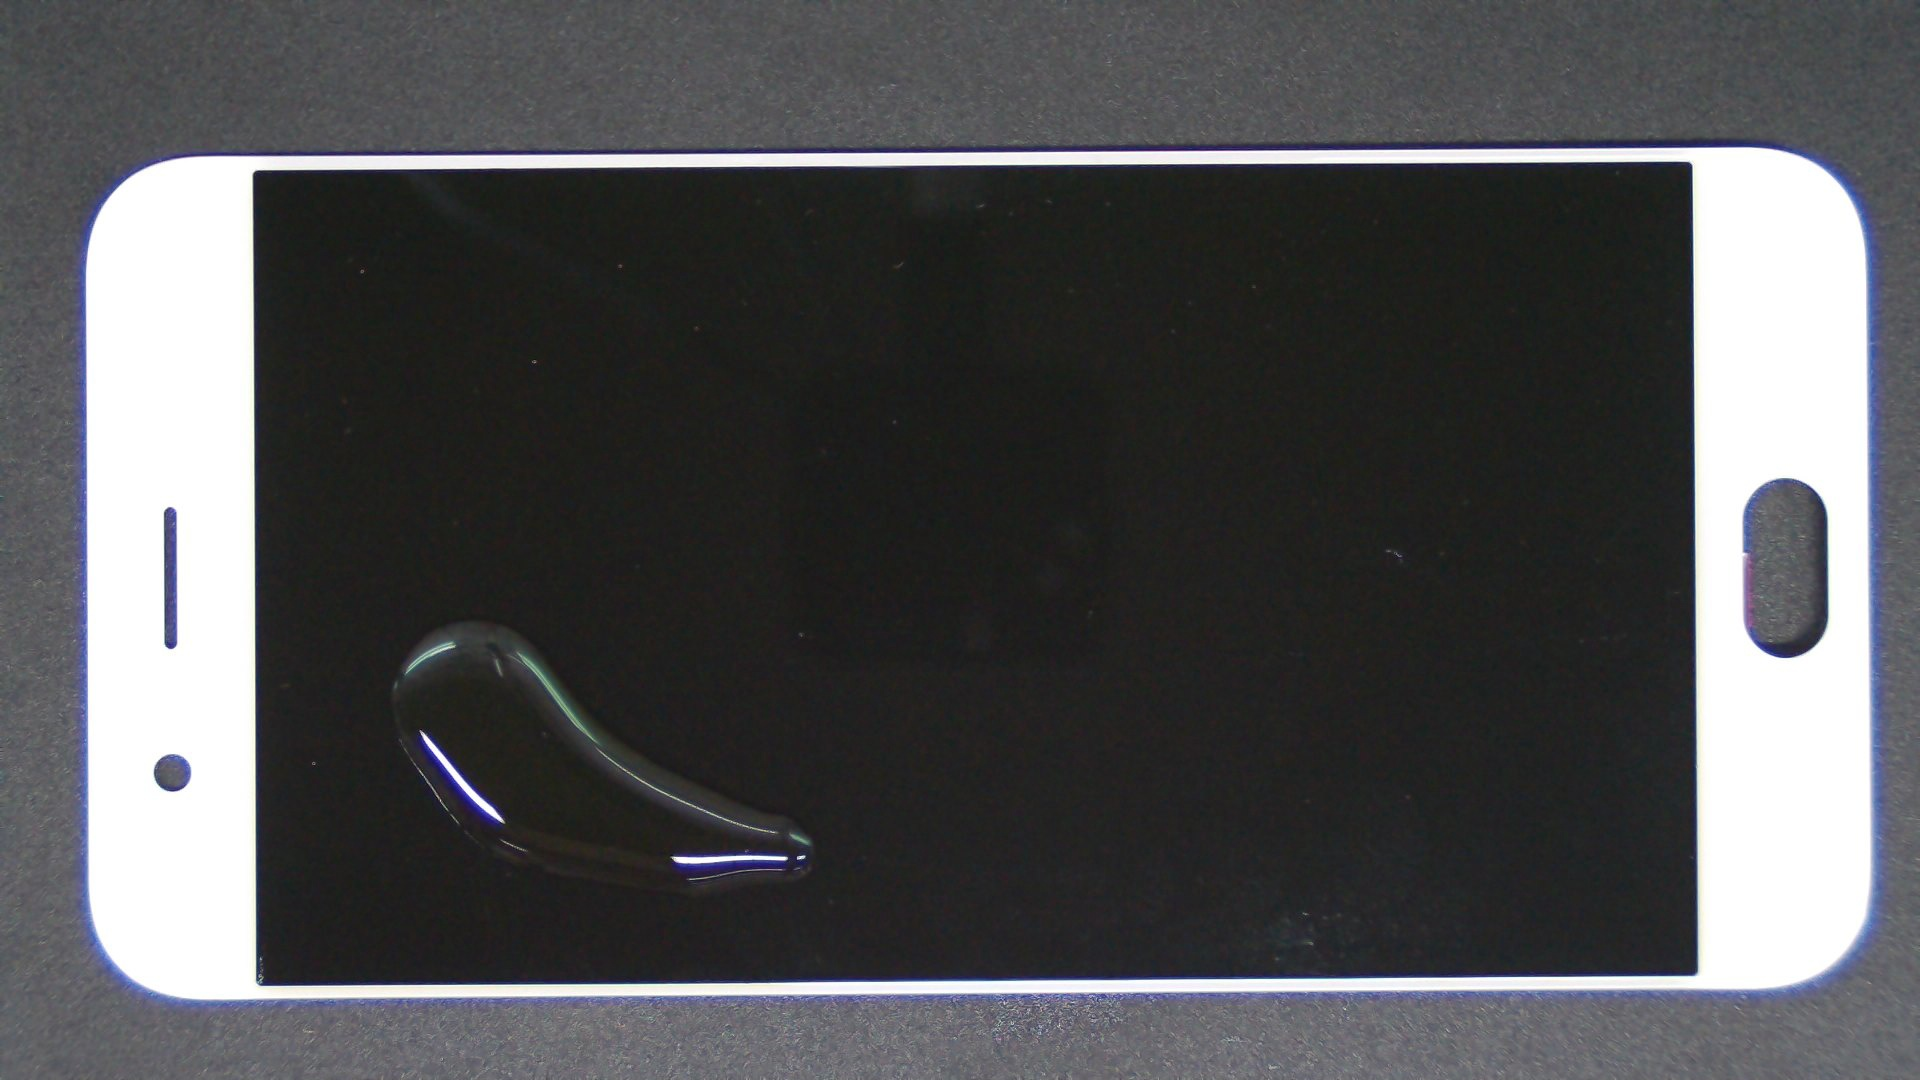oil: (237, 310, 709, 931)
